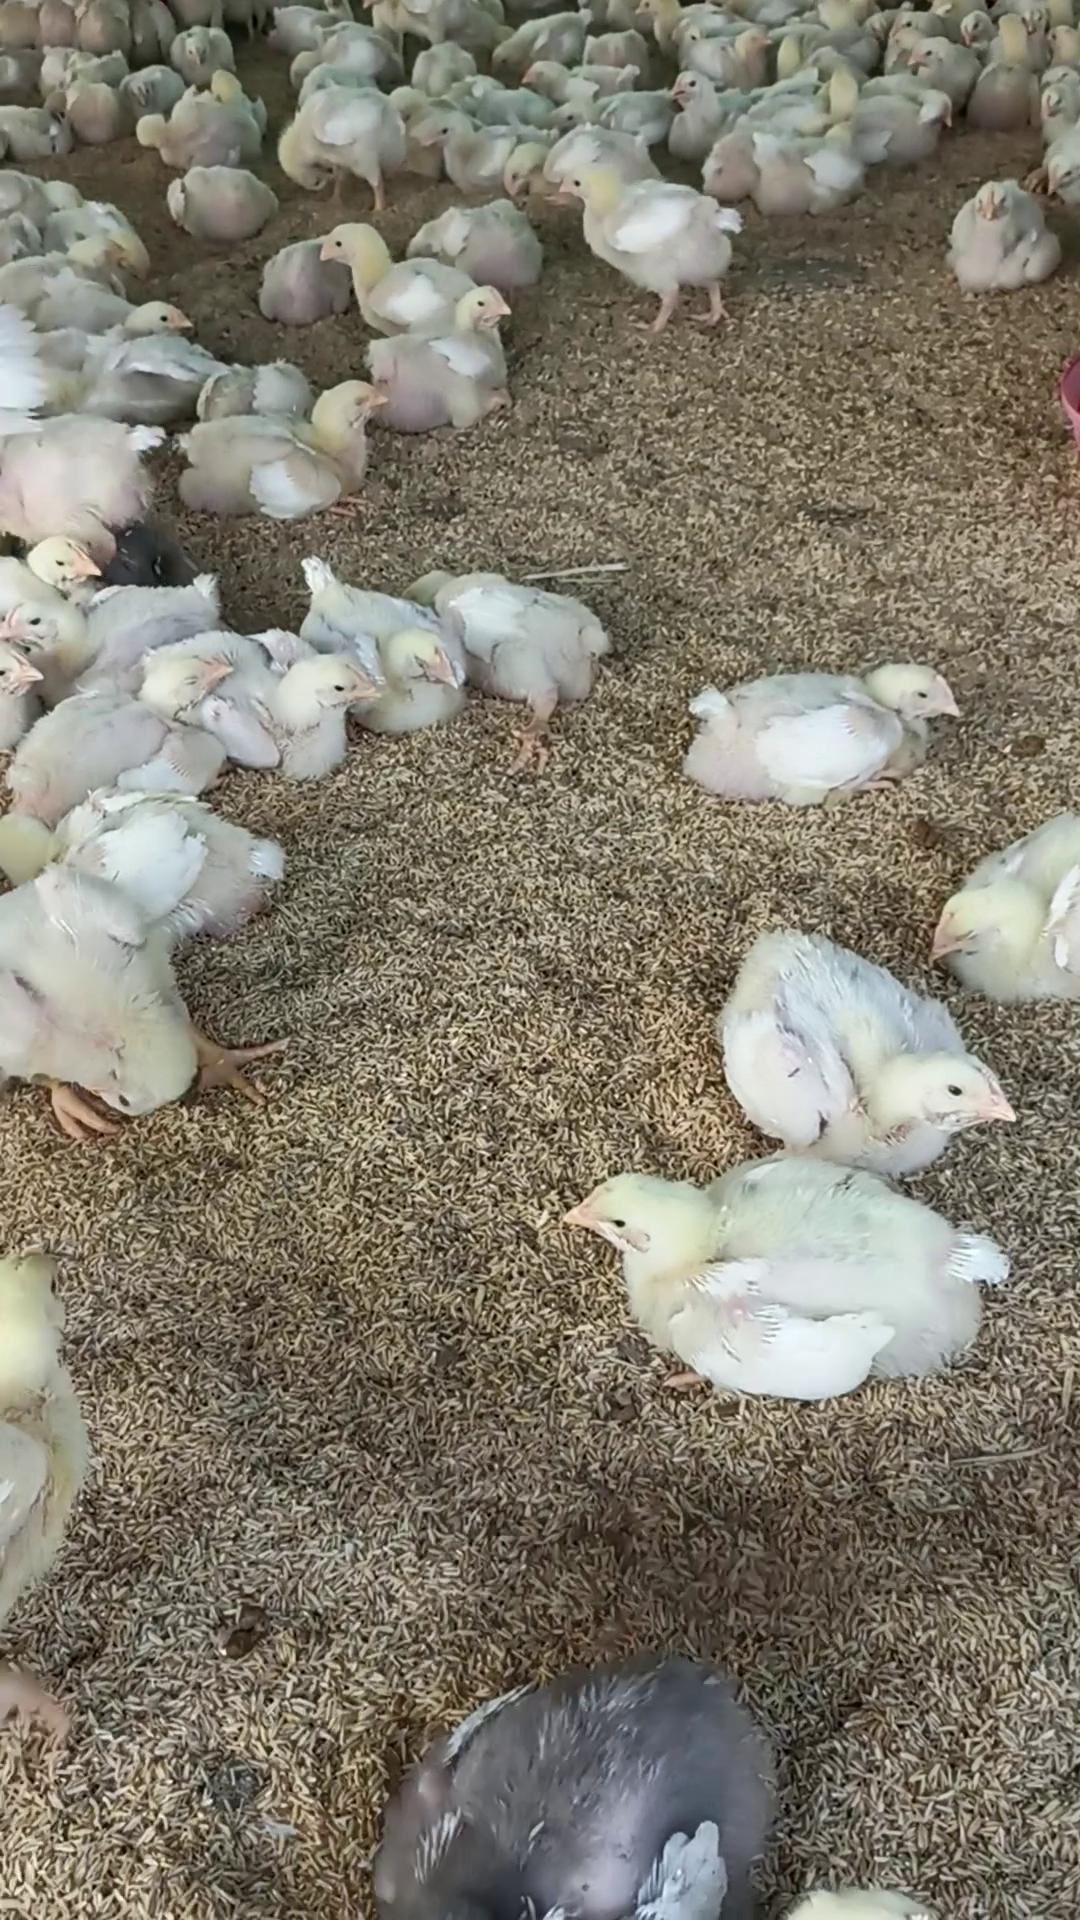Pollos: (554, 1162, 1015, 1406), (0, 816, 281, 1122), (771, 1001, 1026, 1182), (676, 657, 961, 796), (12, 644, 229, 811), (173, 381, 392, 518), (935, 831, 1080, 996), (12, 295, 194, 418), (556, 166, 733, 287), (236, 636, 378, 778), (390, 285, 509, 440), (473, 578, 612, 704), (276, 78, 405, 202), (320, 222, 454, 330), (949, 178, 1059, 287), (376, 620, 468, 723), (430, 109, 527, 196), (669, 69, 744, 148), (911, 33, 975, 102), (167, 30, 239, 80), (121, 69, 175, 120)
